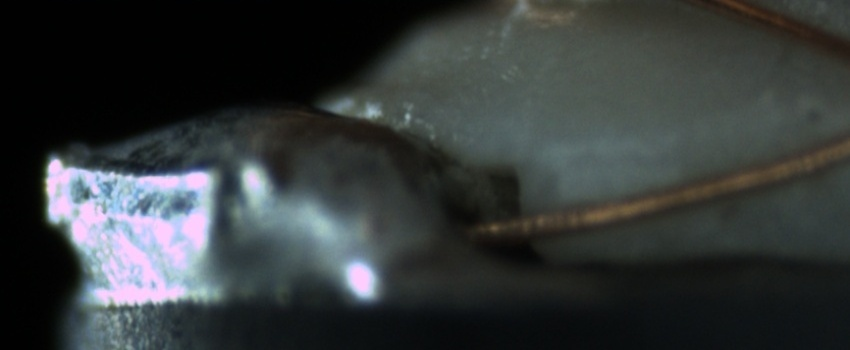DL: (556, 123, 695, 187)
